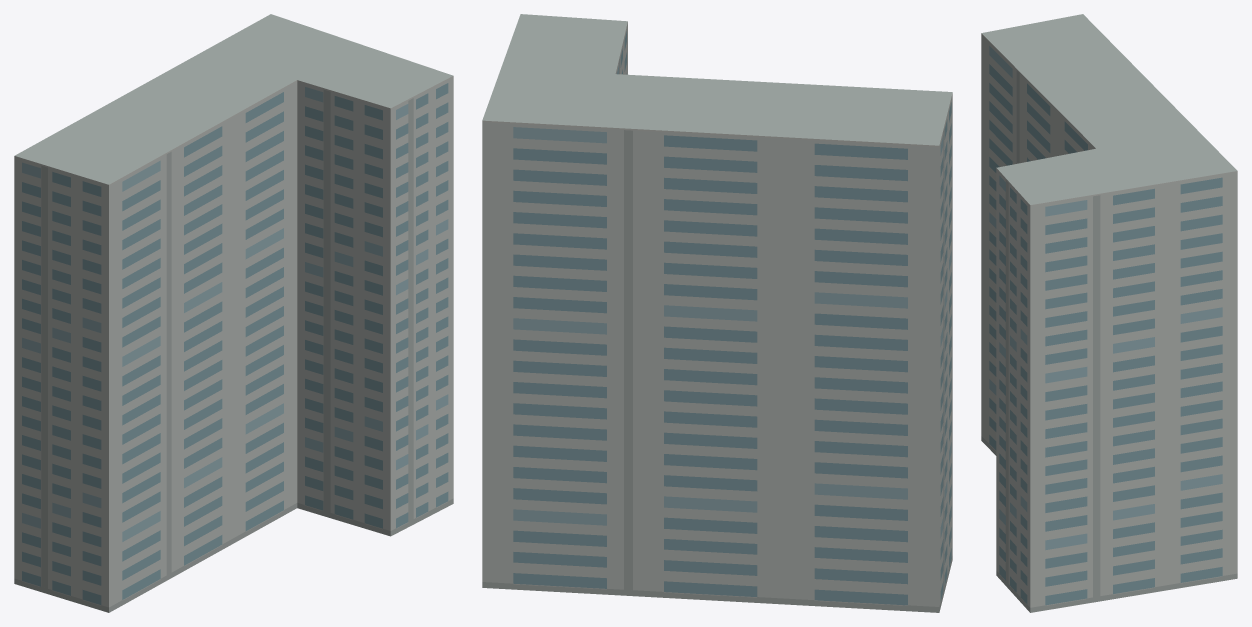
File: residential-ca147741-faab-4fbd-a128-ec6ad306052b.glb
3 renders of one model, left to right at view 1: azimuth 30°, elevation 25°; view 2: azimuth 150°, elevation 25°; view 3: azimuth 270°, elevation 25°, orthographic. The views are drawn at different scales.
Visible parts, largest first — view 1: residential-ca147741-faab-4fbd-a128-ec6ad306052b.tmp; view 2: residential-ca147741-faab-4fbd-a128-ec6ad306052b.tmp; view 3: residential-ca147741-faab-4fbd-a128-ec6ad306052b.tmp.
Boxes of the visible parts, x1,y1,x2,y2 form: residential-ca147741-faab-4fbd-a128-ec6ad306052b.tmp: [14, 14, 453, 612]; residential-ca147741-faab-4fbd-a128-ec6ad306052b.tmp: [482, 14, 952, 612]; residential-ca147741-faab-4fbd-a128-ec6ad306052b.tmp: [981, 14, 1237, 612].
Bounding box in the file's own units: 68.4 × 68 × 38.76.
